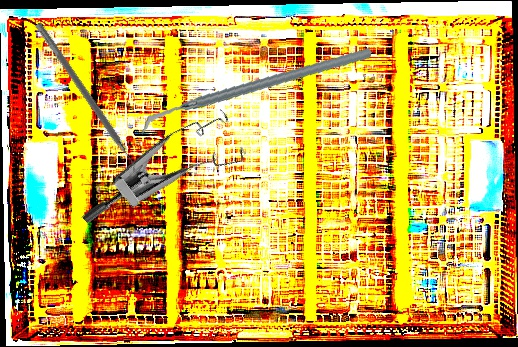Chopper: (138, 19, 373, 163)
Spatula Surgical: (28, 21, 143, 176)
Speculum: (79, 85, 260, 274)
